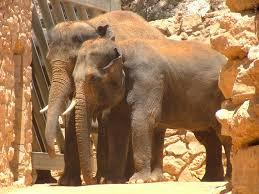elephant: (45, 11, 225, 185)
